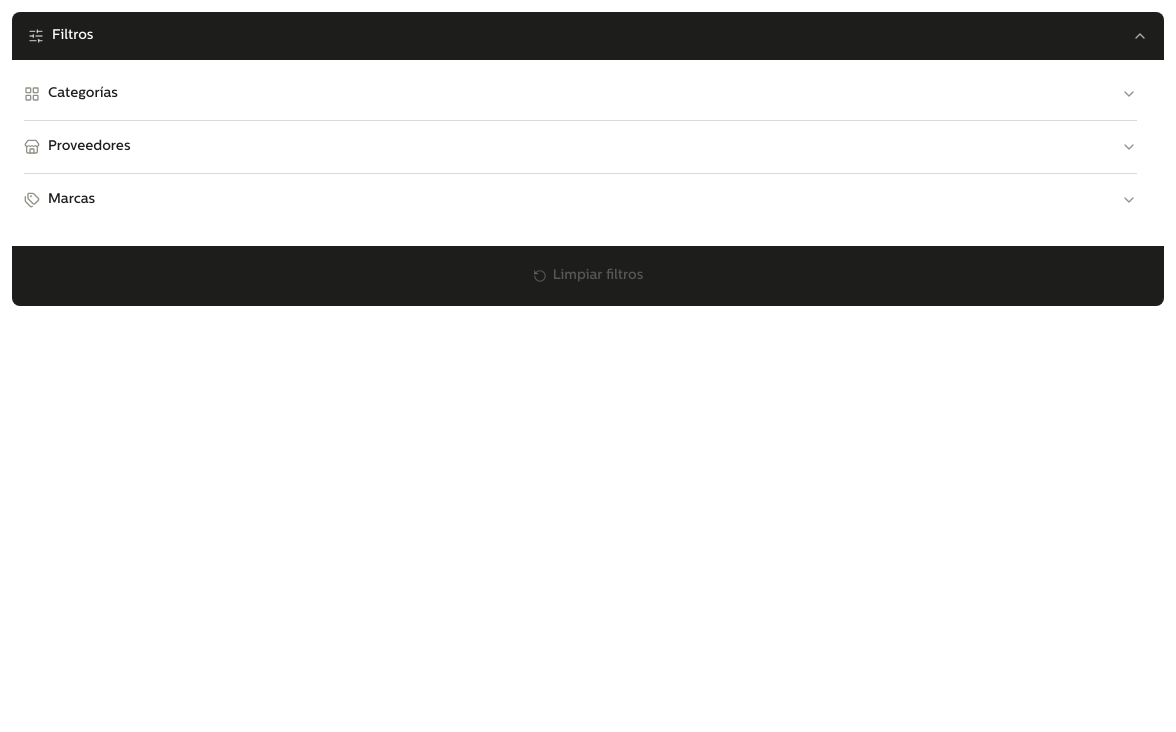
Scenario: categorías y subcategorías › al elegir una categoría aparecen solo sus subcategorías, con conteo
This screenshot has width=1176, height=732.
Click the button "Categorías": (83, 94) left=24, top=76, right=1137, bottom=112
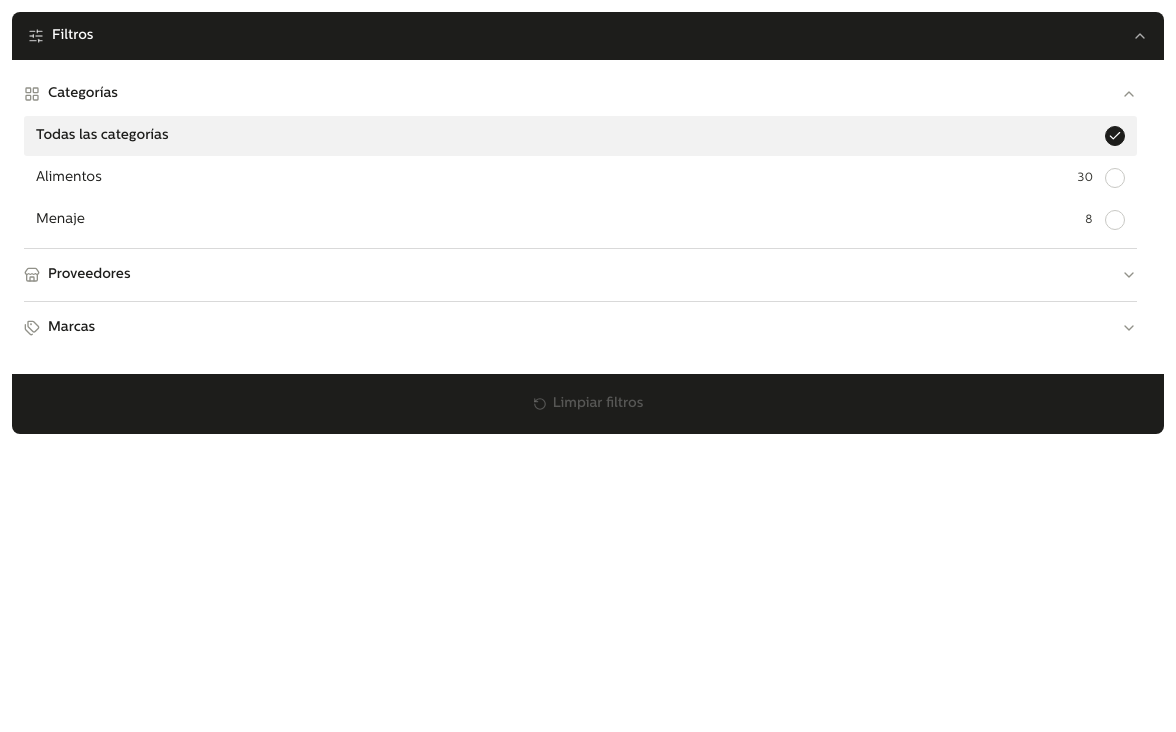
Click the button "Alimentos 30": (69, 178) left=24, top=158, right=1137, bottom=198
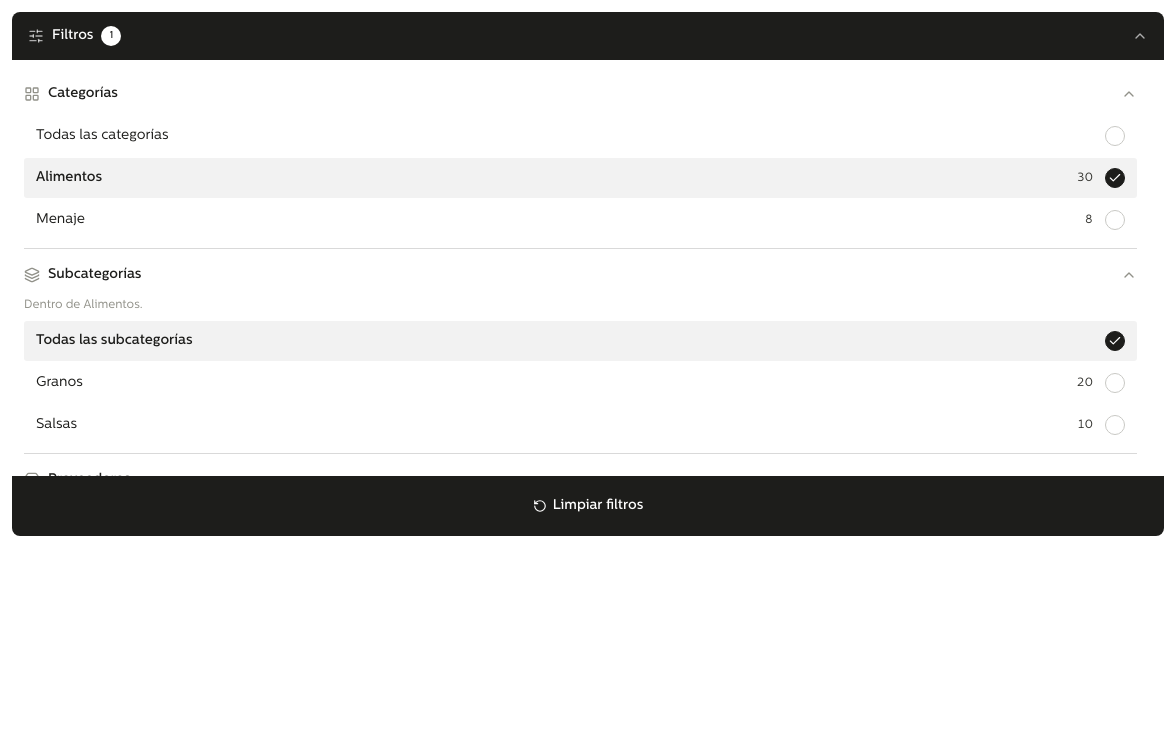
Expected: the text "Subcategorías" is shown, left=48, top=267, right=141, bottom=282
Expected: the button "Granos 20" is shown, left=24, top=363, right=1137, bottom=403
Expected: the button "Salsas 10" is shown, left=24, top=405, right=1137, bottom=445
